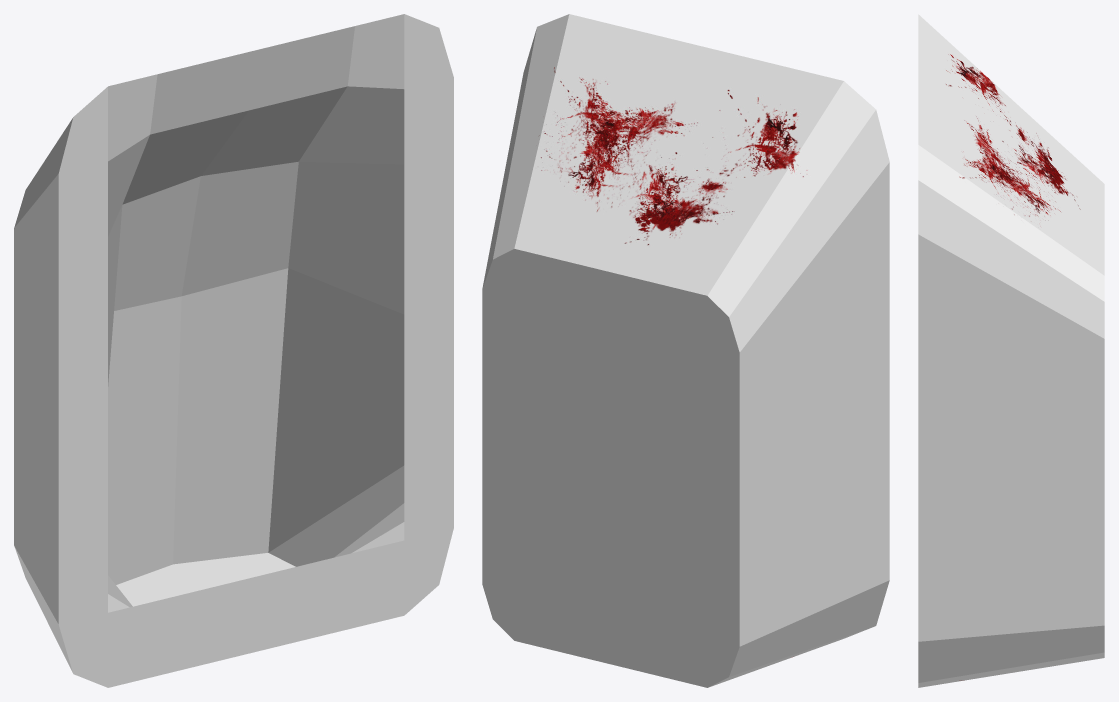
File: VESPASIANO.fbx
3 renders of one model, left to right at view 1: azimuth 30°, elevation 25°; view 2: azimuth 150°, elevation 25°; view 3: azimuth 270°, elevation 25°, orthographic. The views are drawn at different scales.
Visible parts, largest first — view 1: Cube; view 2: Cube; view 3: Cube.
Part boxes in pixels (x1,y1,x2,y2): Cube: (14,14,453,687); Cube: (482,14,889,687); Cube: (918,14,1104,687).
Size of the model in its own units: 0.7895 by 1.15 by 0.3575.
1 material, 1 textured.
